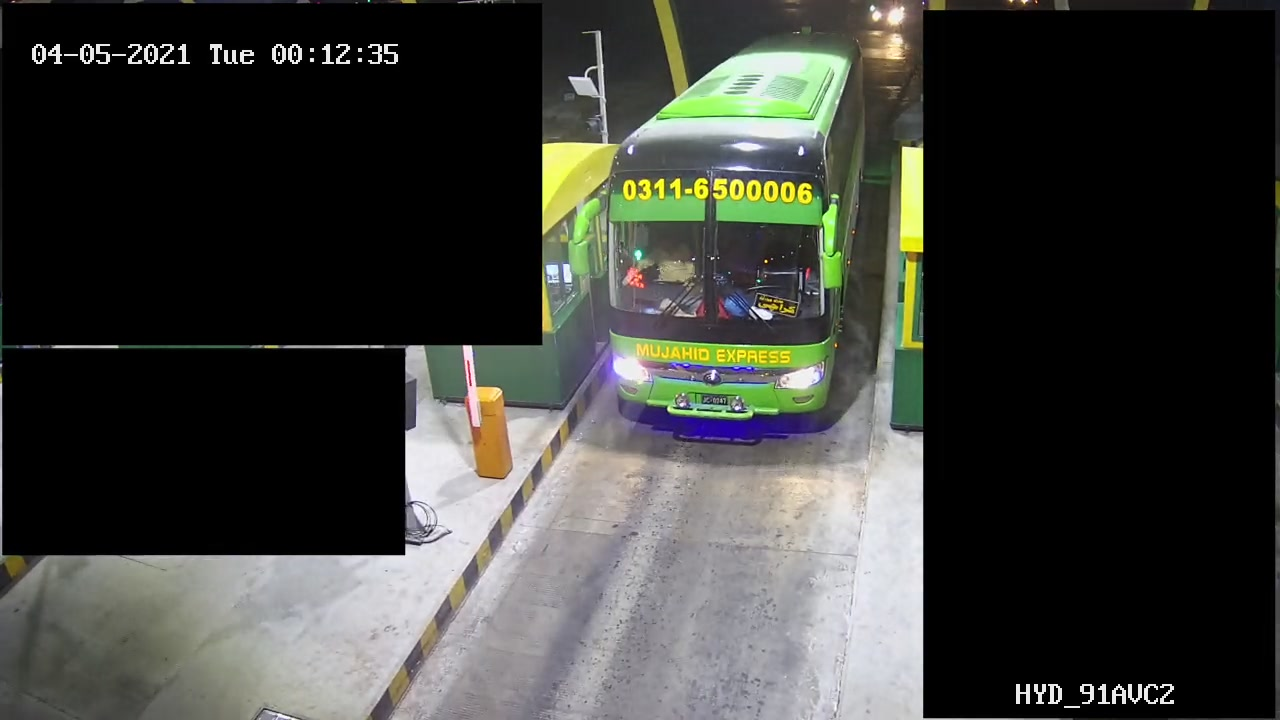F4: (581, 25, 873, 449)
